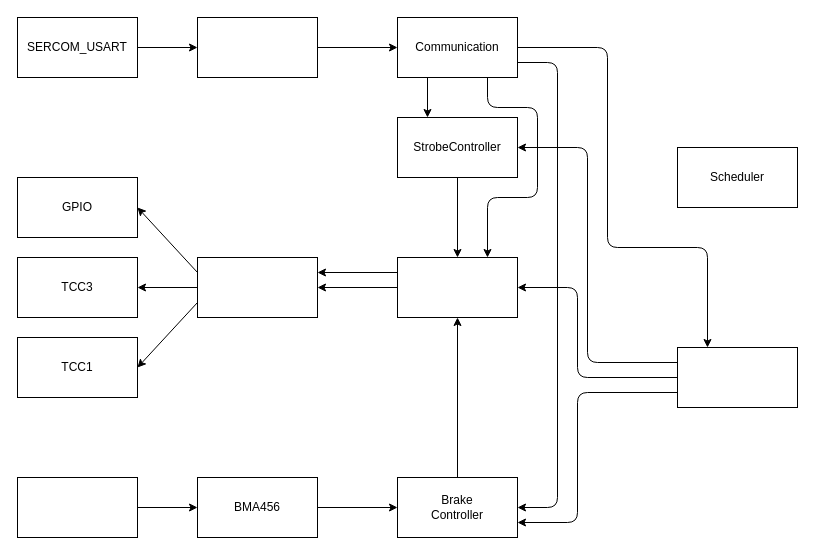
This 815x555 diagram has some shape labels left out. Here are the shapes that lost their labels. From the top down, the centre of each, then its label:
At (257,47): "UART".
At (257,287): "LightController".
At (457,287): "Brightness Controller".
At (737,377): "System State Controller".
At (77,507): "SERCOM_SPI".
